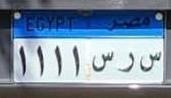1: (52, 45, 65, 79), (71, 44, 83, 78), (36, 45, 46, 77), (19, 46, 28, 77)
raa: (118, 50, 136, 73)
seen: (139, 49, 164, 74), (90, 49, 114, 73)
